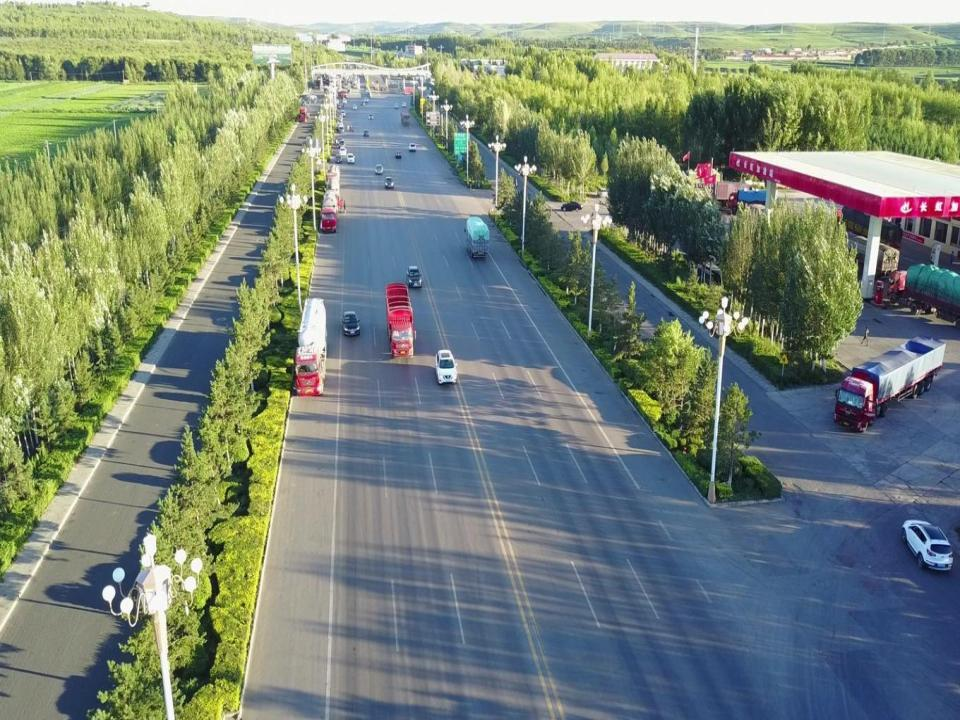car: (902, 518, 953, 570), (435, 349, 457, 386), (341, 311, 359, 335), (406, 265, 421, 289), (560, 199, 584, 211), (384, 176, 394, 189), (597, 187, 608, 198), (374, 164, 383, 175), (346, 152, 354, 163), (408, 142, 416, 152), (334, 153, 342, 162), (338, 139, 345, 148), (394, 151, 402, 158), (339, 147, 346, 155), (337, 137, 343, 144), (363, 129, 369, 136), (368, 113, 373, 119), (352, 104, 357, 110), (360, 101, 366, 105), (394, 103, 398, 108), (401, 102, 406, 106)
truck: (834, 335, 945, 433), (887, 262, 960, 328), (827, 205, 902, 259), (294, 298, 327, 396), (832, 235, 899, 279), (385, 281, 416, 357), (727, 187, 777, 216), (671, 166, 722, 194), (714, 181, 763, 209), (464, 215, 489, 259), (321, 192, 338, 232), (326, 178, 342, 213), (326, 165, 340, 192), (298, 105, 310, 122), (400, 110, 410, 126)
